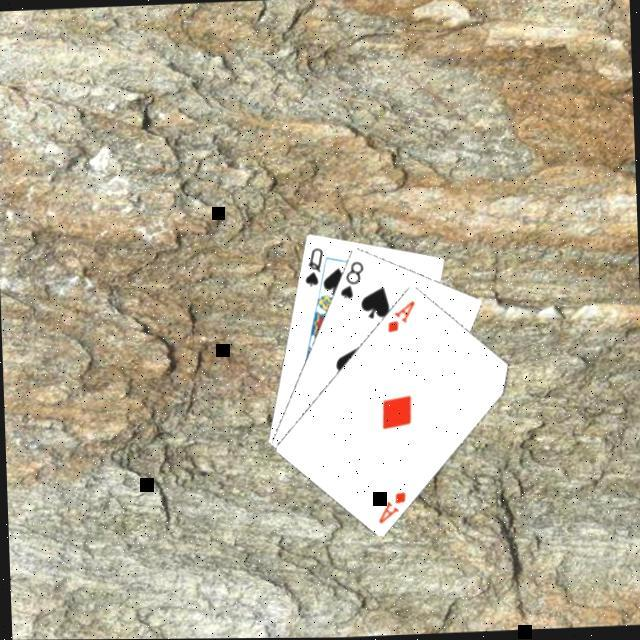8S: (334, 259, 366, 304)
AD: (381, 300, 417, 338), (372, 489, 407, 528)
QS: (298, 246, 326, 291)
